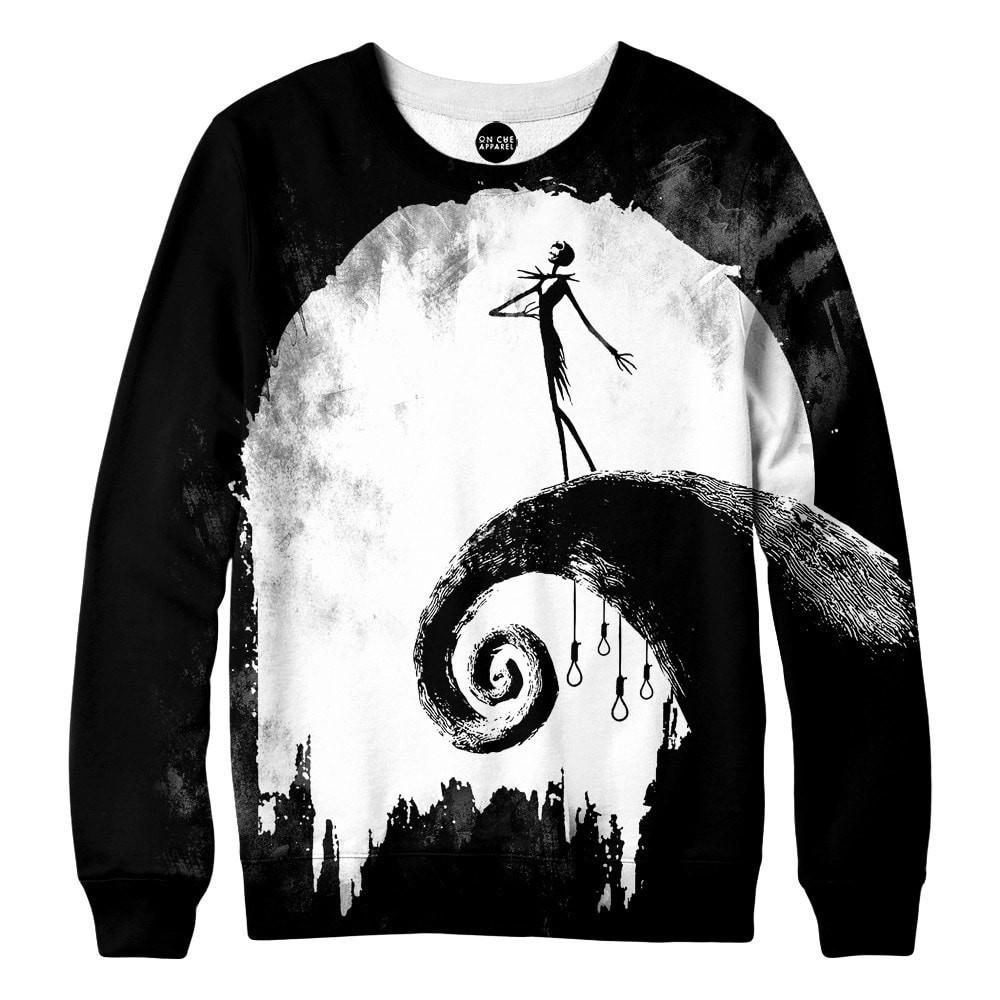Jack Skellington: (488, 238, 639, 488)
